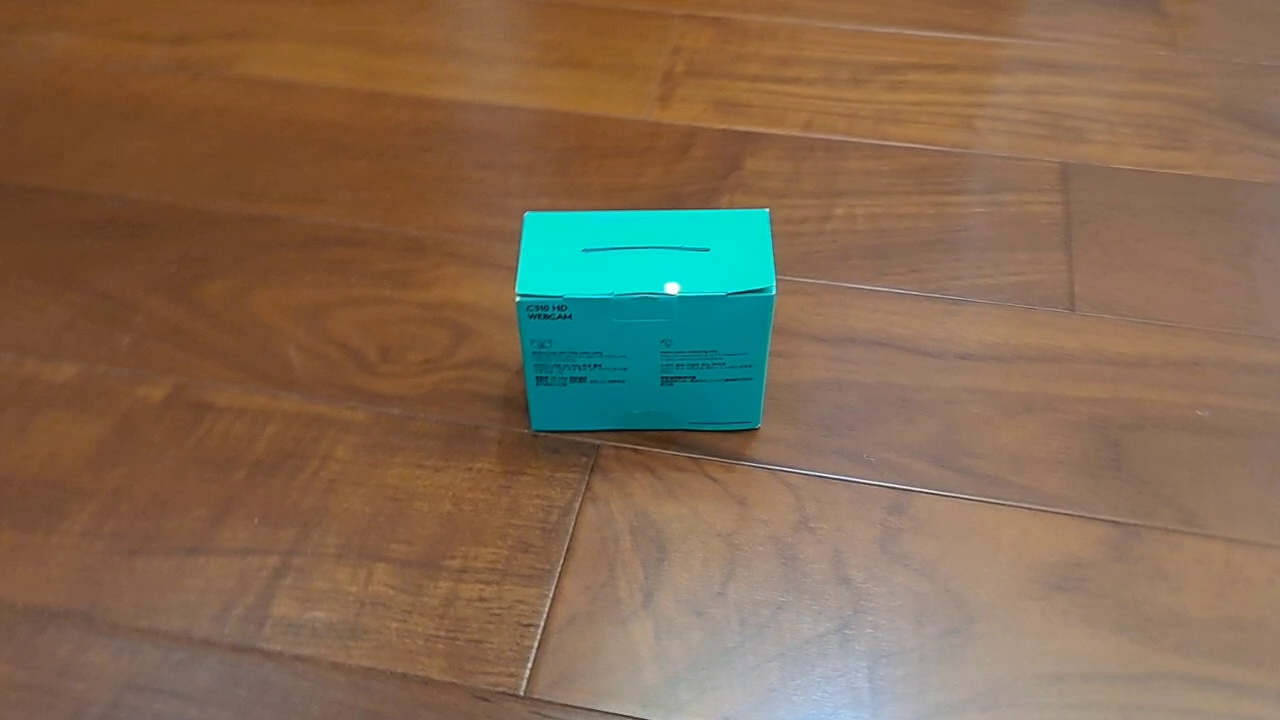webcam: (512, 203, 779, 434)
